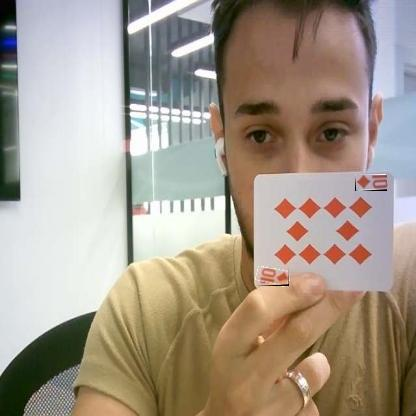10D: (256, 268, 289, 286), (355, 175, 387, 191)
